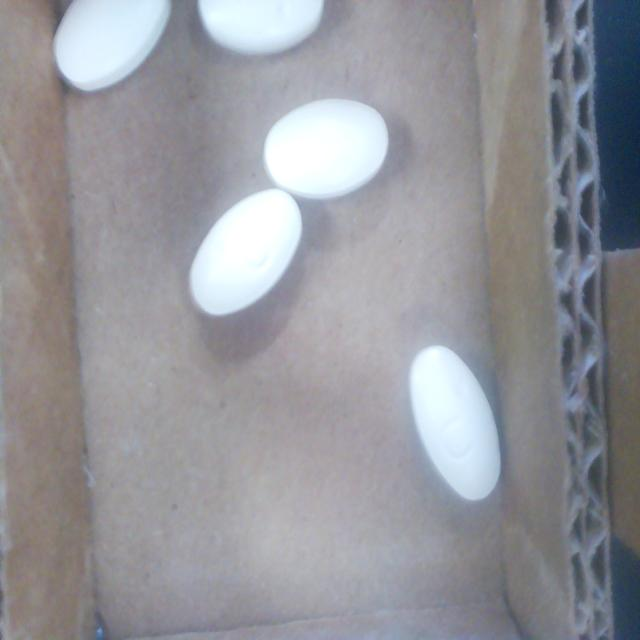pill: (189, 189, 302, 316), (409, 346, 500, 501), (264, 99, 389, 199), (54, 0, 171, 91), (198, 0, 324, 55)
